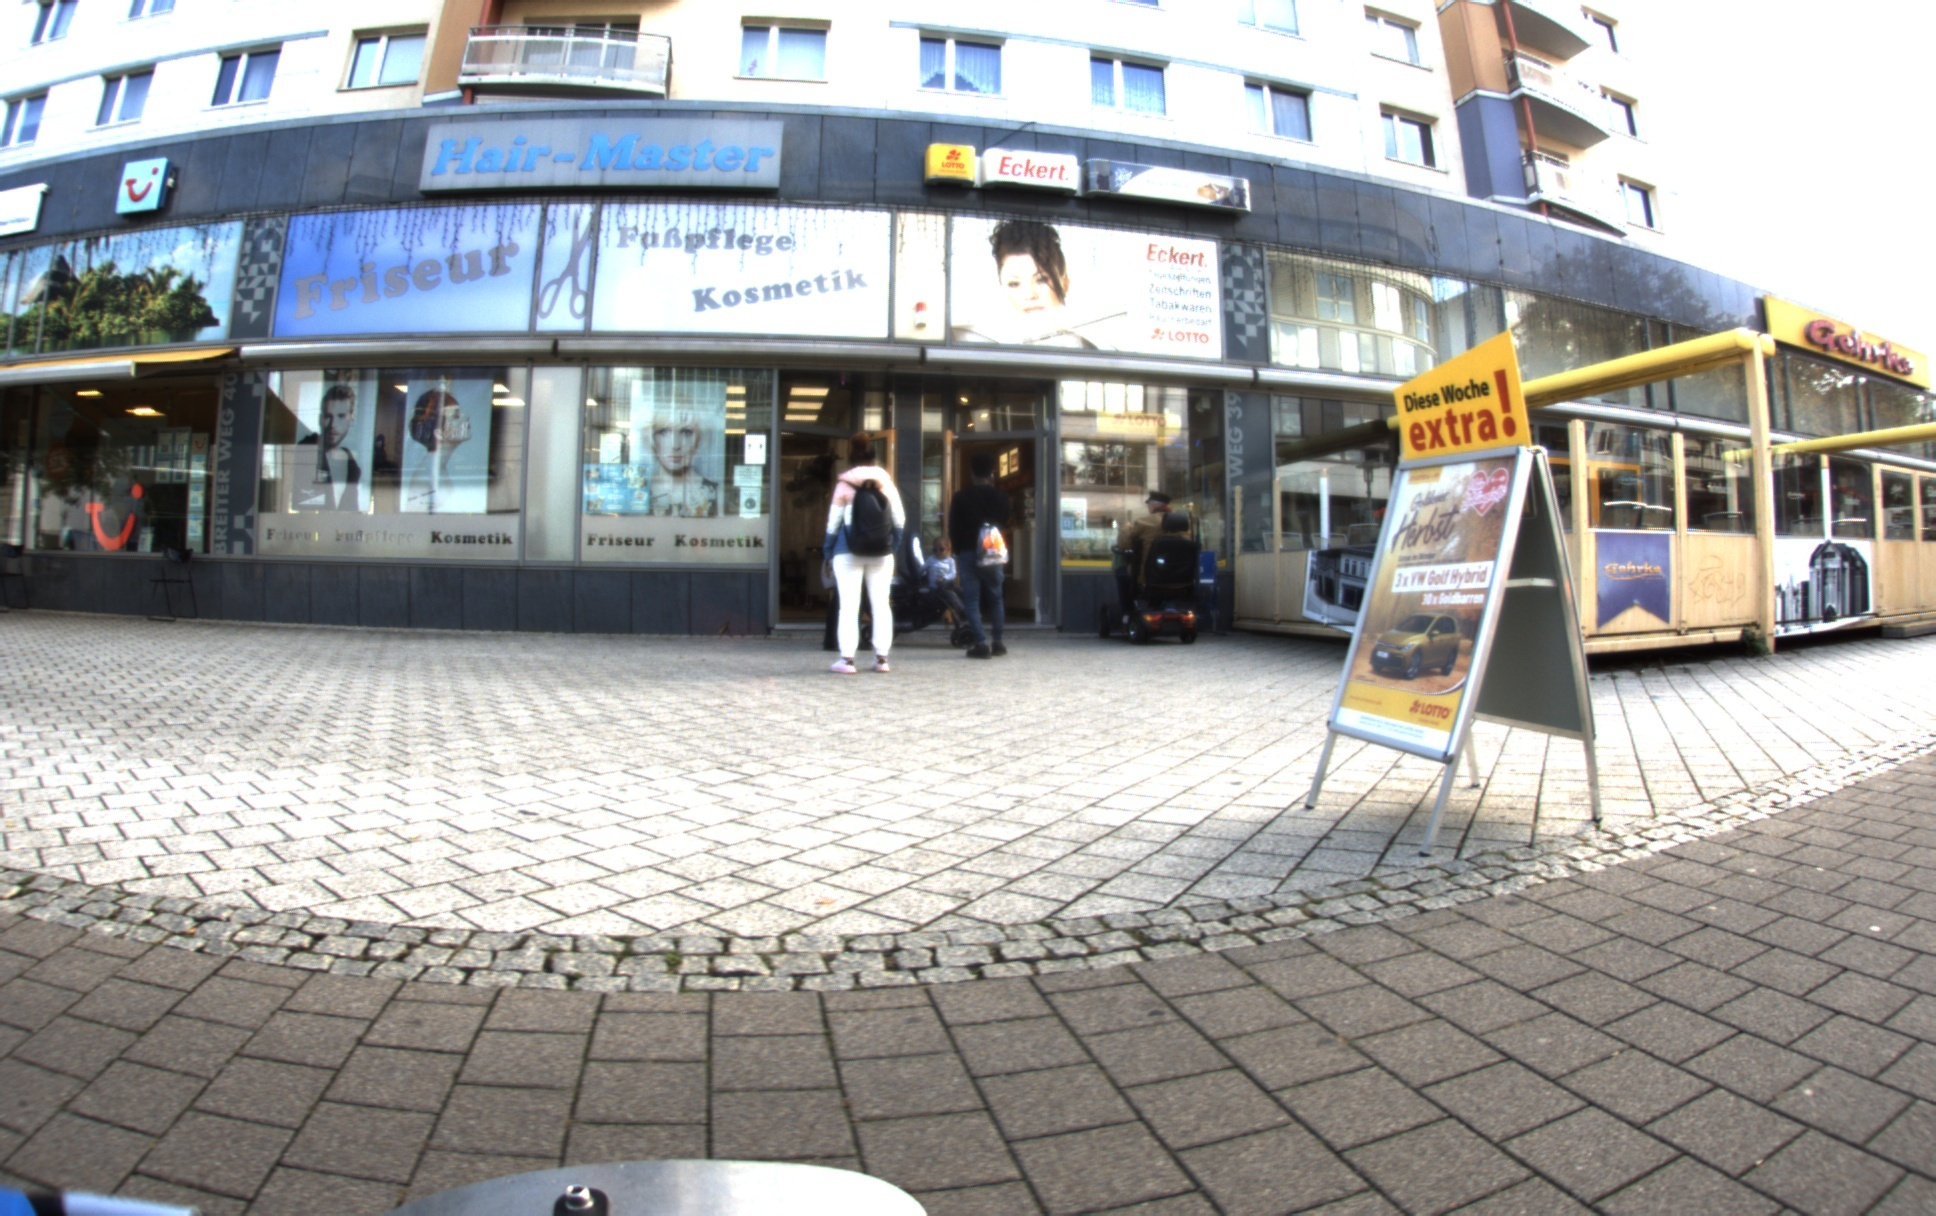adult without baby buggy or mobility support: (822, 432, 904, 673), (947, 451, 1009, 659)
person with baby buggy: (892, 530, 974, 648)
person with mobility support: (1097, 491, 1198, 643)
